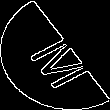M_NE: (15, 22, 95, 88)
